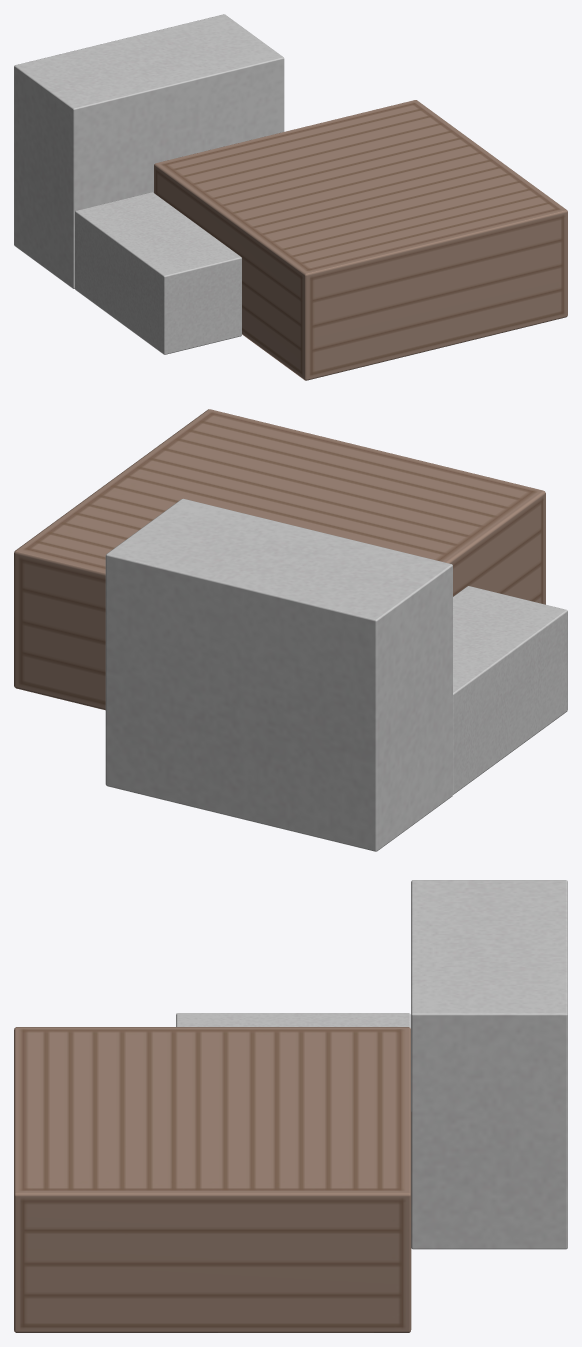
Rendered from T_bench02.fbx.
The picture shows the model from 3 angles, top to bottom: view 1: azimuth 30°, elevation 25°; view 2: azimuth 150°, elevation 25°; view 3: azimuth 270°, elevation 25°; orthographic projection. The views are drawn at different scales.
Visible parts, largest first — view 1: bench02; view 2: bench02; view 3: bench02.
Part boxes in pixels (x1,y1,x2,y2): bench02: (14,14,567,380); bench02: (14,409,567,851); bench02: (14,880,567,1332).
Bounding box in the file's own units: 0.879 × 0.4425 × 0.9414.
Materials: 1 (1 with a texture image).
